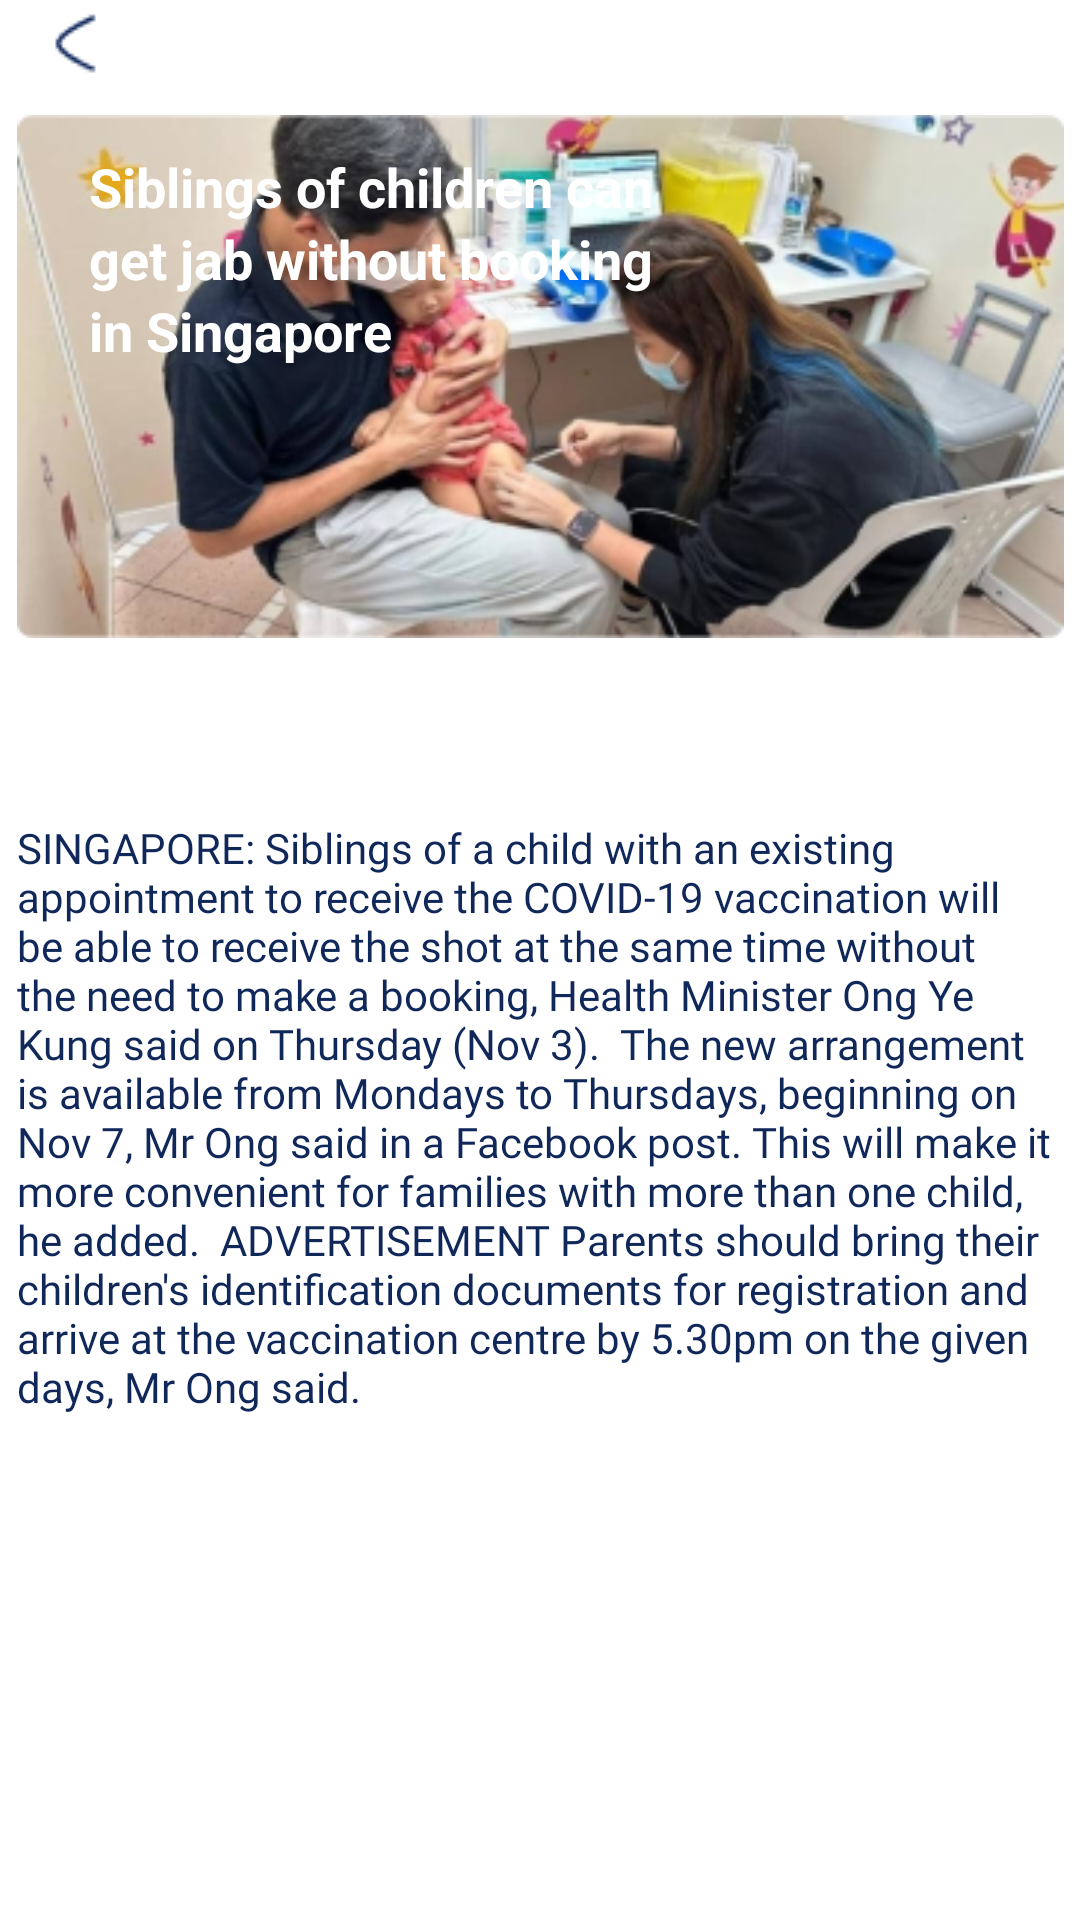

Locate icon controls on the screen. Image size 1080x1920, boxes as (x1, y1, x2, y2).
arrow left: (55, 14, 96, 73)
